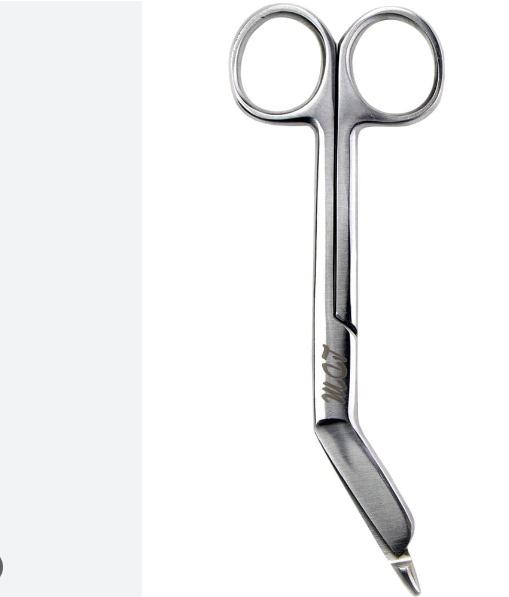Bandage Sciccors: (220, 1, 463, 597)
